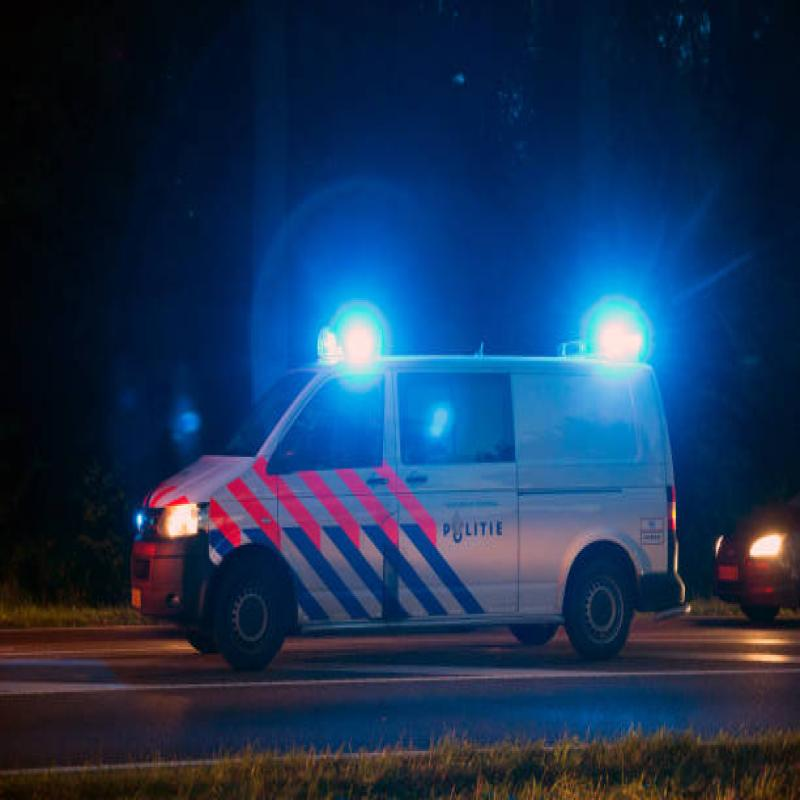AmbulanceSiren: (298, 314, 386, 380), (568, 314, 642, 372)
car: (97, 338, 681, 648)
